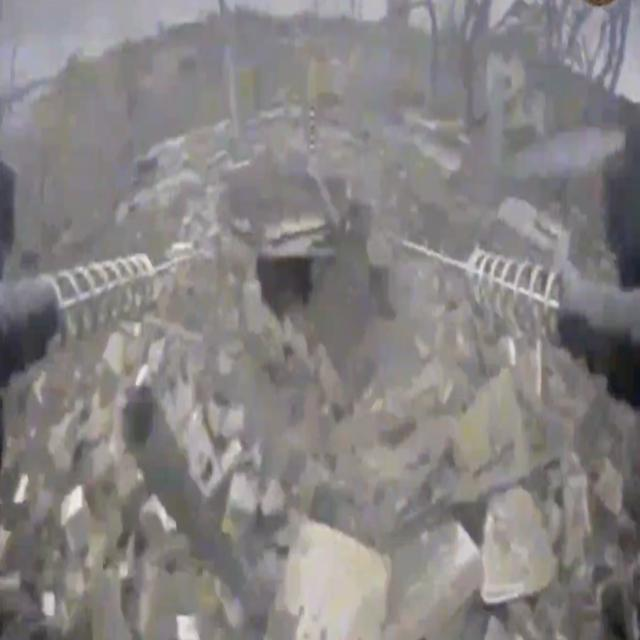fortification: (244, 225, 390, 321)
